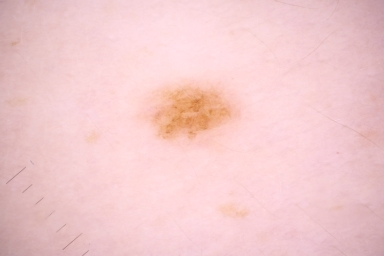melanoma: (151, 83, 231, 139)
